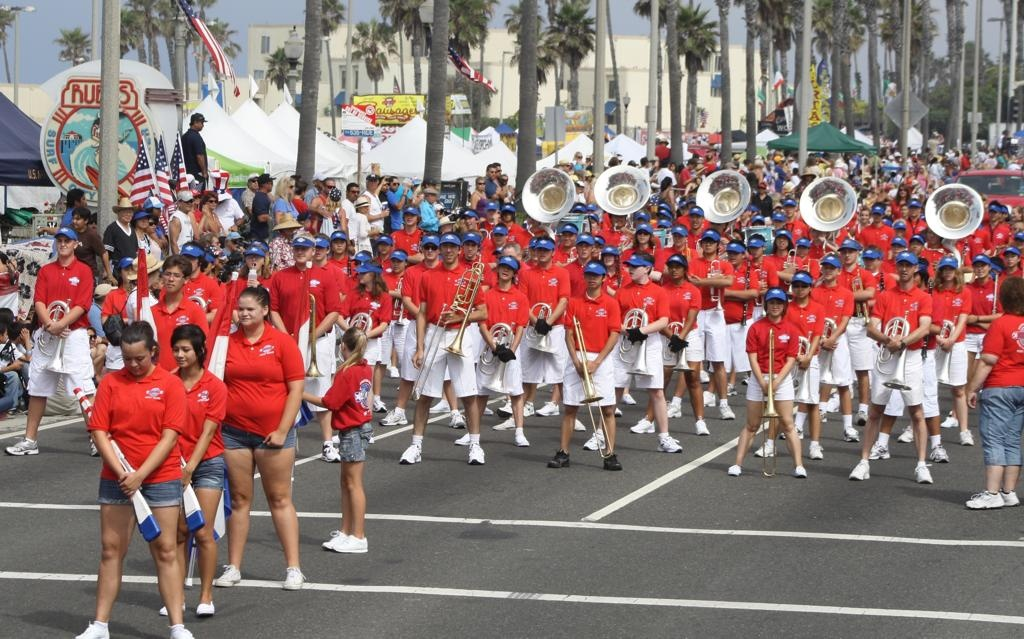human_face: (122, 346, 150, 376), (237, 299, 263, 325), (172, 340, 196, 366), (162, 266, 184, 292), (292, 240, 312, 262), (56, 233, 74, 255), (790, 277, 808, 299), (896, 258, 914, 280), (244, 250, 262, 270), (182, 250, 198, 272), (441, 240, 457, 262), (584, 268, 602, 286), (422, 240, 438, 258), (498, 261, 514, 279), (628, 261, 644, 279), (668, 260, 684, 278), (768, 295, 782, 315), (823, 260, 837, 280), (120, 264, 134, 282), (312, 241, 326, 259), (576, 239, 590, 257), (748, 240, 762, 258), (688, 210, 702, 228), (840, 244, 854, 262), (973, 259, 987, 277), (926, 226, 940, 244), (728, 246, 742, 263), (330, 237, 344, 253), (537, 245, 551, 261), (702, 235, 716, 251), (610, 211, 626, 225), (864, 252, 878, 268), (941, 263, 955, 279), (300, 214, 314, 230), (392, 254, 404, 272), (465, 239, 477, 257), (530, 242, 542, 260), (562, 228, 574, 246), (636, 227, 650, 242), (672, 230, 686, 245), (74, 195, 86, 211), (120, 206, 132, 222), (135, 212, 147, 228), (404, 208, 416, 224), (1005, 250, 1017, 266), (909, 238, 921, 254), (585, 216, 597, 232), (358, 267, 370, 283), (728, 234, 740, 250), (144, 217, 156, 232), (602, 249, 614, 264), (198, 258, 210, 272), (72, 214, 84, 228), (229, 236, 241, 250), (492, 230, 504, 244), (891, 243, 903, 257), (354, 257, 366, 271), (808, 226, 820, 240), (208, 236, 218, 252), (150, 202, 160, 218), (590, 240, 600, 256), (464, 212, 474, 227), (248, 176, 260, 188), (346, 188, 358, 200), (180, 196, 190, 210), (776, 234, 786, 248), (86, 331, 96, 345), (88, 218, 98, 232), (796, 244, 808, 255), (282, 223, 292, 236), (636, 216, 646, 229), (773, 216, 783, 229), (988, 206, 998, 219), (206, 196, 216, 208), (190, 192, 202, 202), (378, 240, 388, 252), (262, 178, 272, 190), (285, 180, 295, 192), (324, 182, 334, 194), (426, 190, 436, 202), (425, 182, 435, 194), (503, 207, 513, 219), (486, 206, 496, 218), (738, 207, 748, 219), (872, 208, 882, 220), (495, 251, 505, 263), (194, 119, 204, 130), (366, 175, 376, 186), (688, 200, 698, 211), (1011, 209, 1019, 222), (0, 330, 8, 343), (358, 203, 368, 213), (910, 202, 918, 214), (860, 210, 868, 222), (784, 202, 792, 214), (1014, 238, 1022, 250), (996, 210, 1004, 221), (380, 180, 388, 190), (391, 179, 399, 189), (476, 179, 484, 189), (894, 225, 902, 235), (900, 206, 908, 216), (882, 207, 890, 217), (899, 186, 907, 196), (562, 164, 570, 172), (566, 167, 574, 175), (488, 168, 494, 178), (495, 167, 501, 177), (680, 204, 686, 214), (759, 184, 765, 192), (576, 182, 582, 190), (585, 173, 591, 181), (668, 162, 674, 170), (501, 175, 507, 182), (575, 155, 581, 161), (688, 162, 694, 168)
